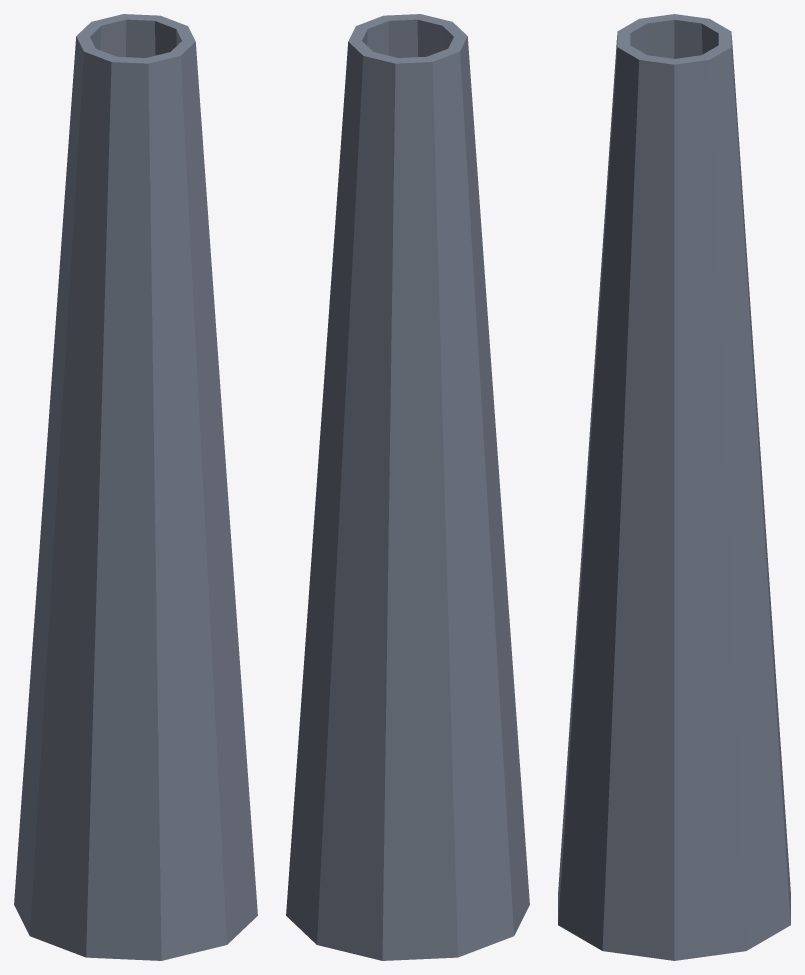
The model's file is Factory_2_only.fbx.
The picture shows the model from 3 angles, left to right: view 1: azimuth 30°, elevation 25°; view 2: azimuth 150°, elevation 25°; view 3: azimuth 270°, elevation 25°; orthographic projection.
Visible parts, largest first — view 1: Pole_1.001; view 2: Pole_1.001; view 3: Pole_1.001.
Boxes of the visible parts, box(x1,y1,x2,y2) form: Pole_1.001: box(14, 14, 257, 960); Pole_1.001: box(286, 14, 529, 960); Pole_1.001: box(558, 14, 790, 960).
Bounding box in the file's own units: 823 × 3225 × 782.
